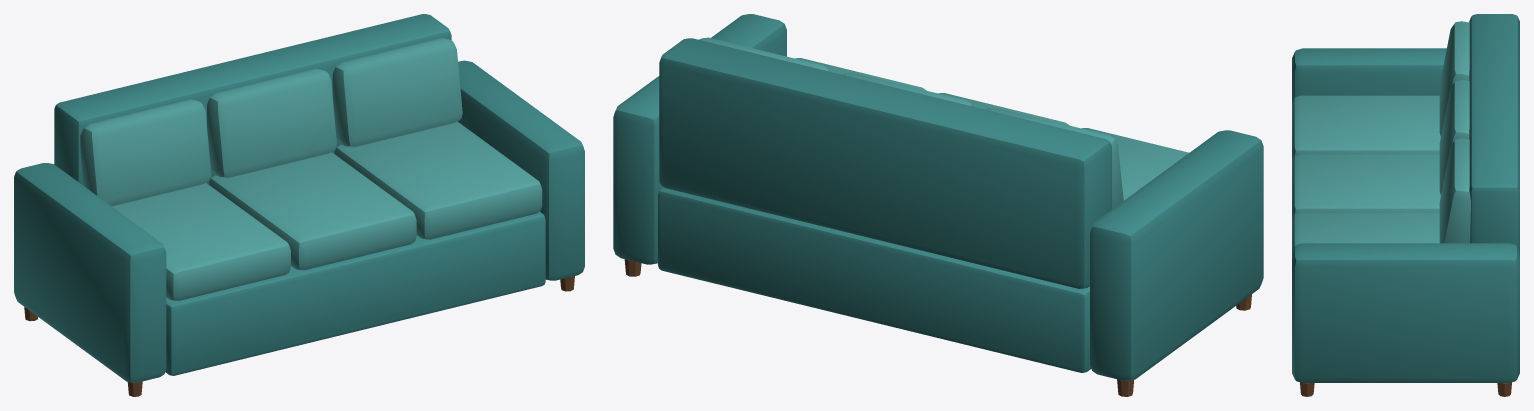
File: couch.glb
The picture shows the model from 3 angles, left to right: view 1: azimuth 30°, elevation 25°; view 2: azimuth 150°, elevation 25°; view 3: azimuth 270°, elevation 25°; orthographic projection. The views are drawn at different scales.
Visible parts, largest first — view 1: body; view 2: body; view 3: body.
Boxes of the visible parts, bbox=[...] form: body: bbox=[14, 14, 584, 396]; body: bbox=[613, 14, 1263, 396]; body: bbox=[1292, 14, 1519, 396].
Size of the model in its own units: 200 by 85 by 90.
